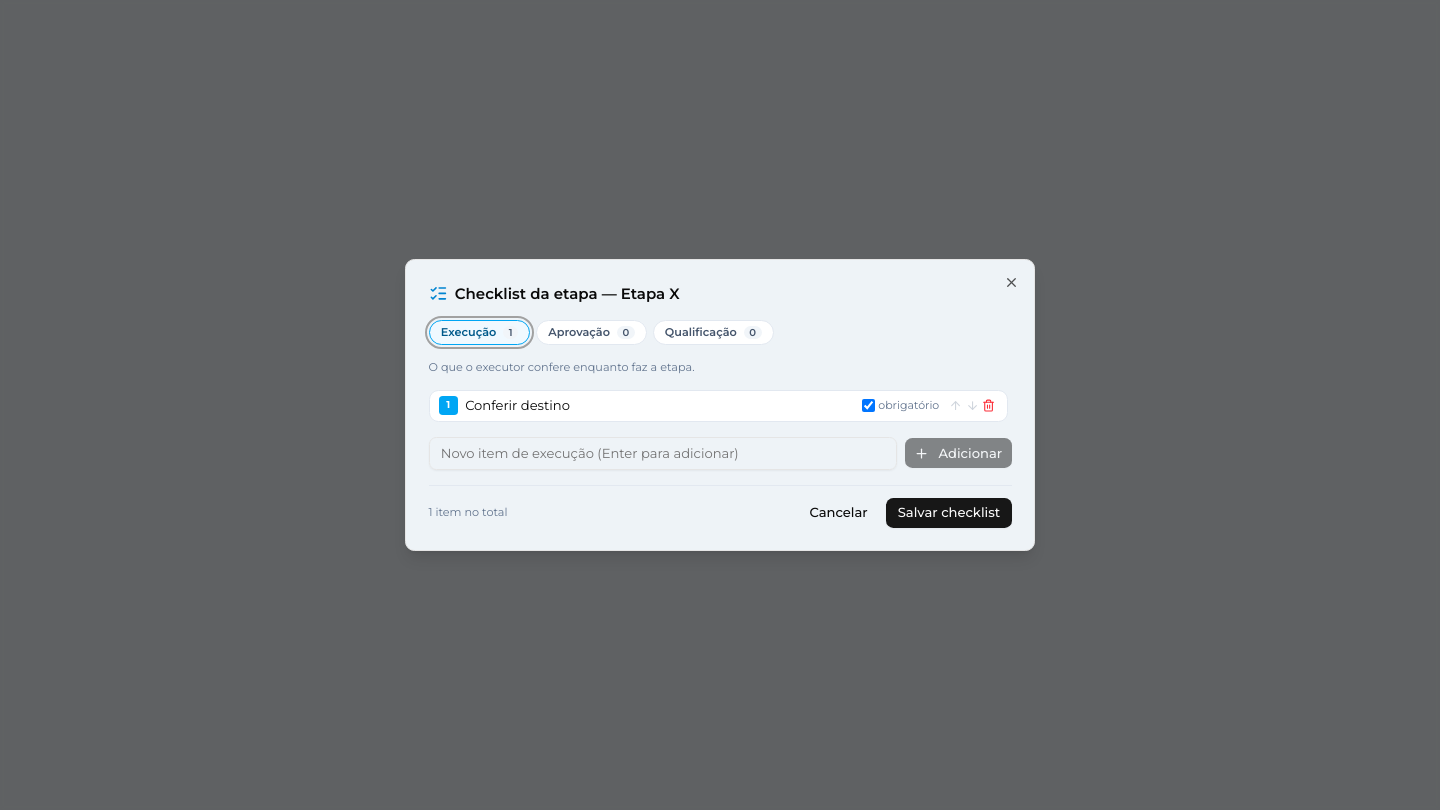
Test: Checklist da etapa (janelinha) › mostra os itens do tipo escolhido, adiciona item de aprovação e devolve a lista ao salvar
Later steps or results of the test are not shown.
Expected: the text "Conferir destino" is shown, [465,397,570,413]
Click the tab "Aprovação 0" at coordinates (592, 332), box [536,320,647,344]
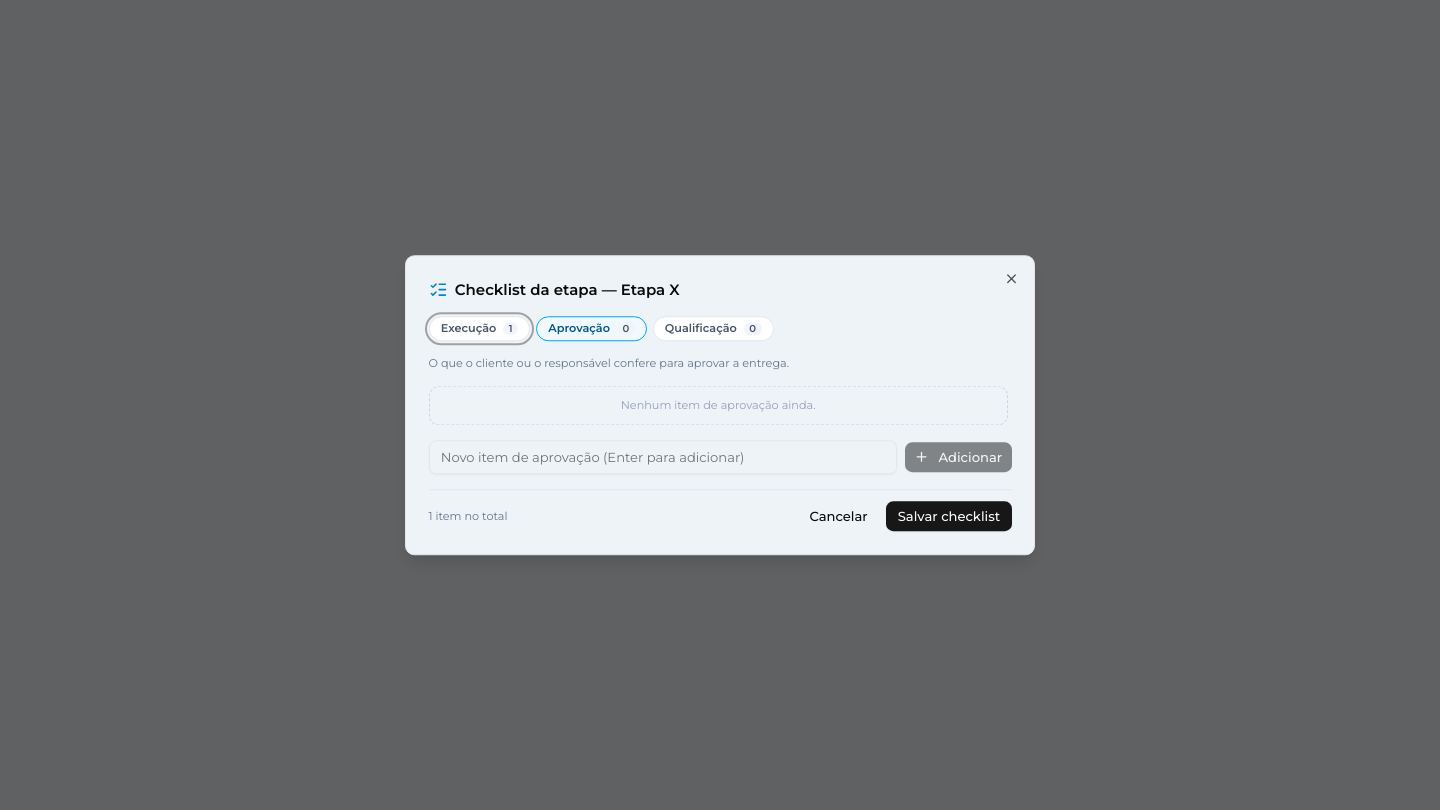
Now the text "Conferir destino" is gone
Type "Cliente aprova o criativo" into the field named "Novo item do checklist" at coordinates (663, 457), box [428,440,897,474]
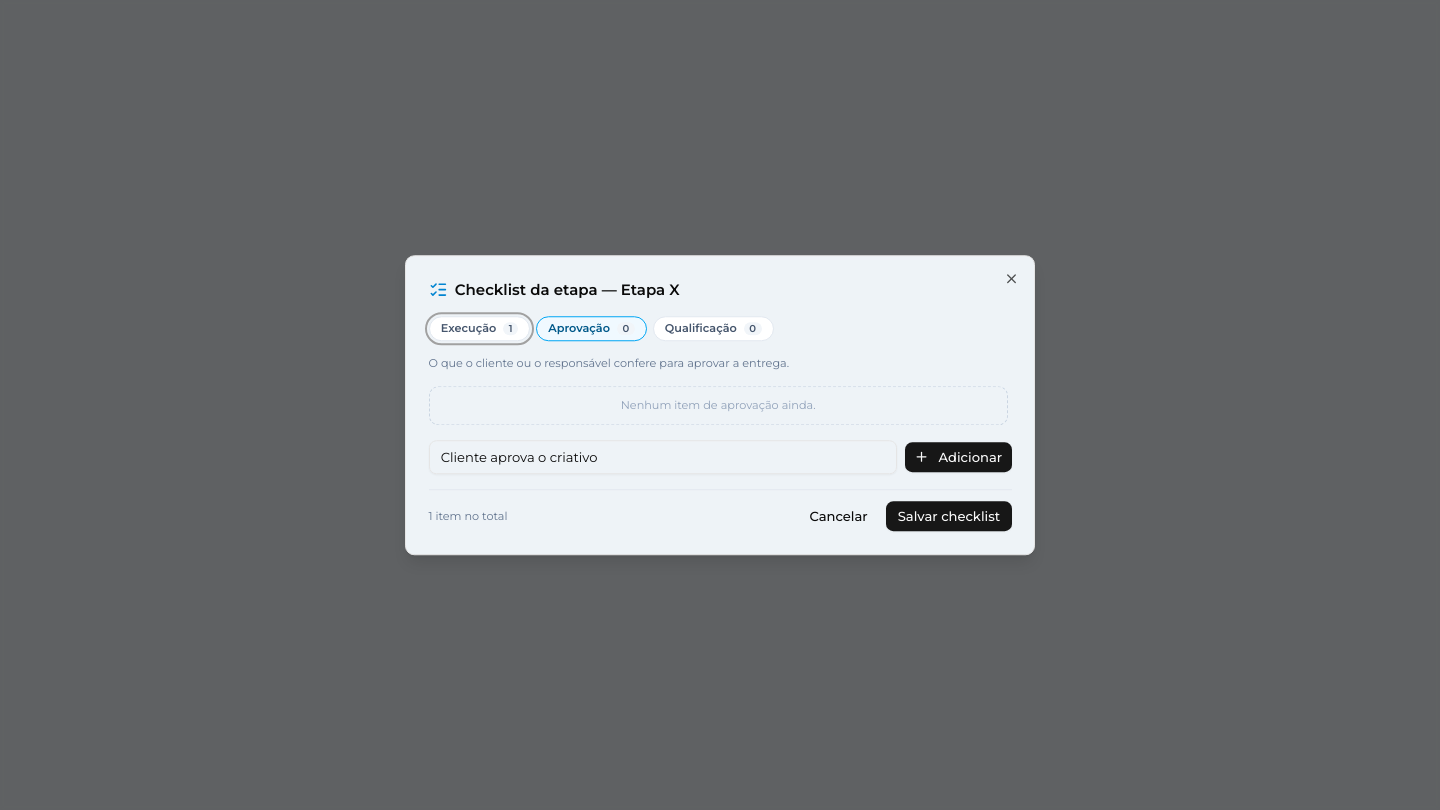
Press Enter in the field named "Novo item do checklist", box [428,440,897,474]
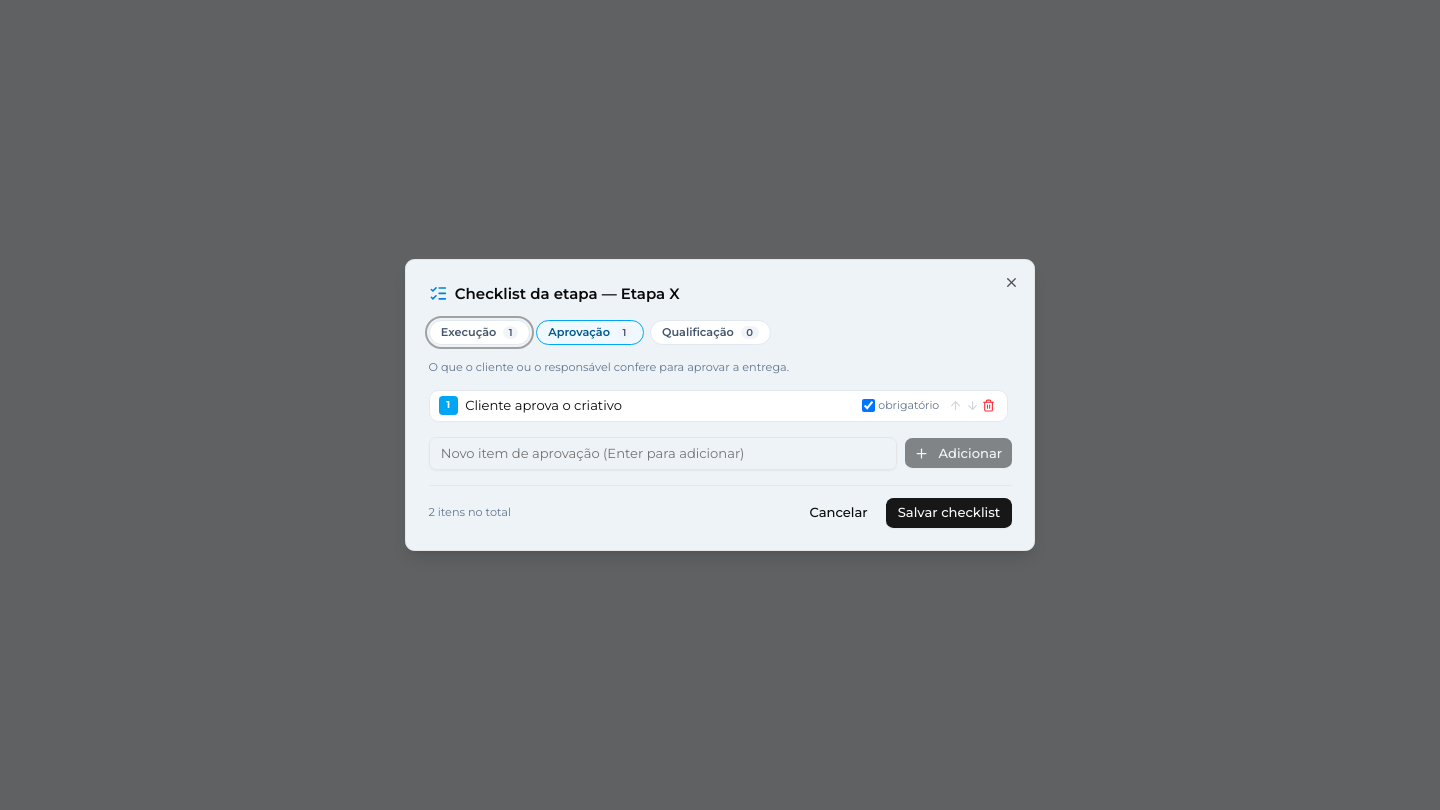
Now the text "Cliente aprova o criativo" is shown, box [465,397,622,413]
